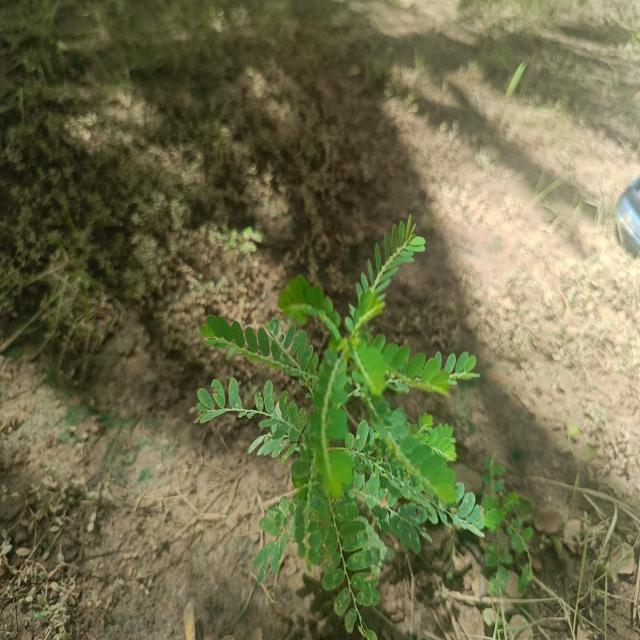weed: (188, 218, 488, 640)
